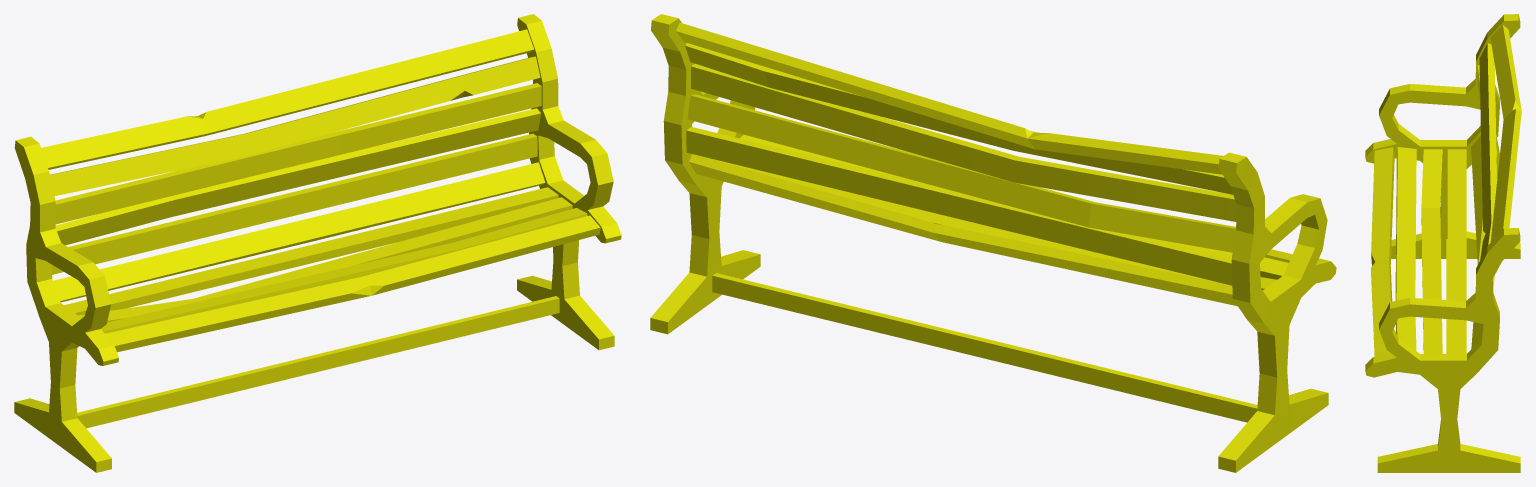
File: cty_bench.glb
The picture shows the model from 3 angles, left to right: view 1: azimuth 30°, elevation 25°; view 2: azimuth 150°, elevation 25°; view 3: azimuth 270°, elevation 25°; orthographic projection. The views are drawn at different scales.
Parts seen in each view (by area): view 1: SM_Prop_ParkBench_01; view 2: SM_Prop_ParkBench_01; view 3: SM_Prop_ParkBench_01.
Part boxes in pixels (x1,y1,x2,y2): SM_Prop_ParkBench_01: [14, 14, 621, 472]; SM_Prop_ParkBench_01: [650, 14, 1336, 472]; SM_Prop_ParkBench_01: [1365, 14, 1521, 472].
Size of the model in its own units: 0.0208 by 0.0105 by 0.00624.
Materials: 1 (1 with a texture image).
